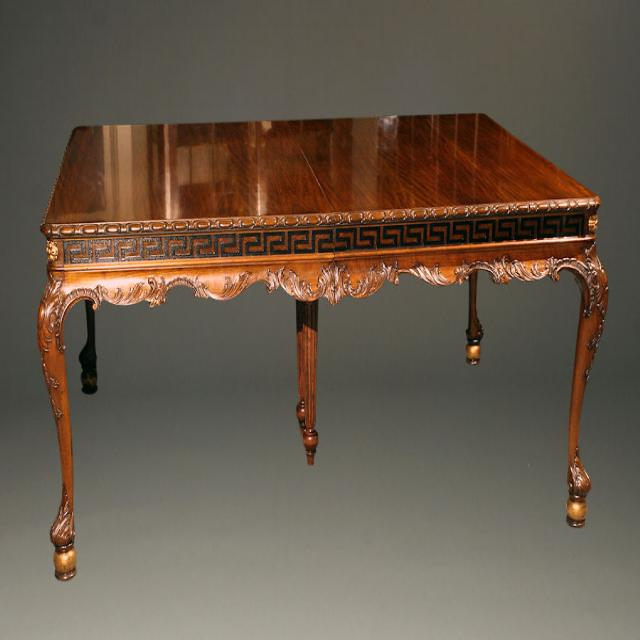Table: (0, 80, 624, 598)
